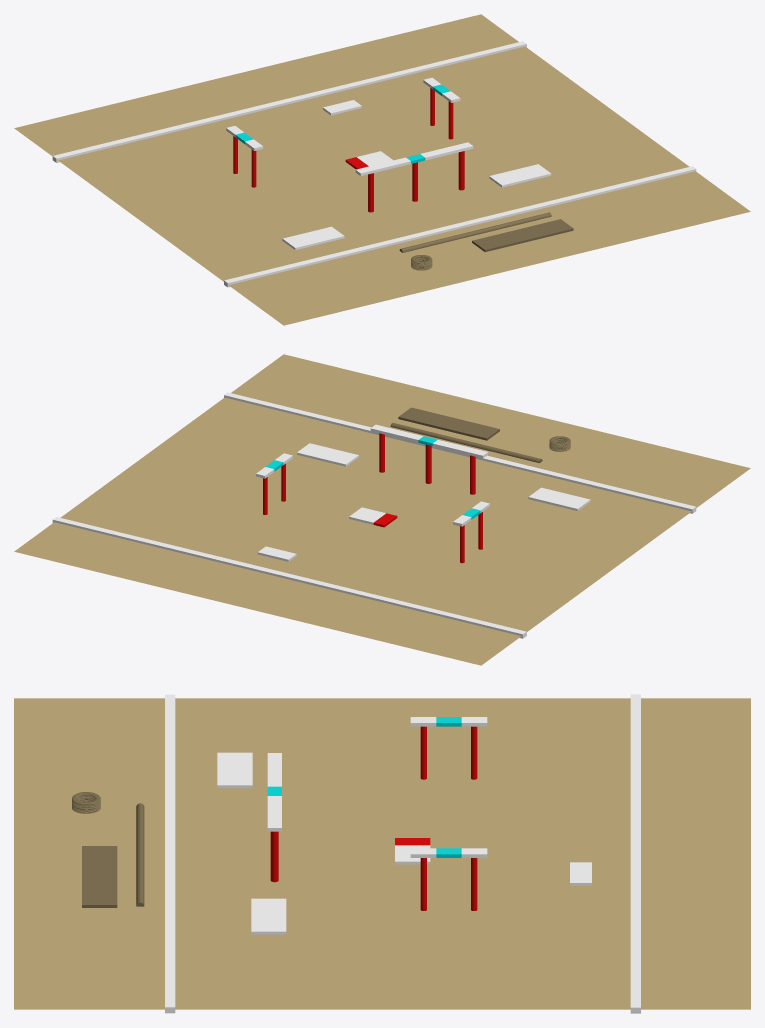
File: oneObst.glb
3 renders of one model, top to bottom at view 1: azimuth 30°, elevation 25°; view 2: azimuth 150°, elevation 25°; view 3: azimuth 270°, elevation 25°, orthographic. The views are drawn at different scales.
Parts seen in each view (by area): view 1: Plane.002, Plane.003, Plane.004, Plane.011, Plane.005, Cylinder, Plane.001, Plane.009; view 2: Plane.002, Plane.003, Plane.004, Plane.011, Plane.005, Cylinder, Plane.001, Plane.009, Plane.008; view 3: Plane.002, Plane.003, Plane.004, Plane.011, Plane.009, Plane.001, Plane.005, Cylinder, Plane.007, Plane.010, Plane.008.
Part boxes in pixels (x1,y1,x2,y2): Plane.002: [14, 14, 750, 325]; Plane.003: [52, 41, 526, 162]; Plane.004: [224, 166, 696, 287]; Plane.011: [472, 219, 573, 252]; Plane.005: [355, 142, 473, 175]; Cylinder: [399, 212, 551, 252]; Plane.001: [489, 164, 551, 187]; Plane.009: [282, 226, 344, 249]; Plane.002: [14, 354, 750, 665]; Plane.003: [52, 517, 526, 638]; Plane.004: [224, 392, 696, 513]; Plane.011: [398, 407, 499, 440]; Plane.005: [370, 424, 488, 458]; Cylinder: [390, 422, 542, 462]; Plane.001: [297, 443, 358, 466]; Plane.009: [528, 487, 590, 510]; Plane.008: [349, 507, 397, 527]; Plane.002: [14, 698, 750, 1009]; Plane.003: [630, 694, 640, 1013]; Plane.004: [165, 694, 175, 1013]; Plane.011: [82, 846, 117, 907]; Plane.009: [217, 752, 252, 788]; Plane.001: [251, 898, 286, 934]; Plane.005: [267, 753, 281, 831]; Cylinder: [136, 803, 144, 906]; Plane.007: [410, 848, 487, 857]; Plane.010: [410, 717, 487, 726]; Plane.008: [395, 838, 430, 864].
Bounding box in the file's own units: 20.13 × 1.85 × 20.
